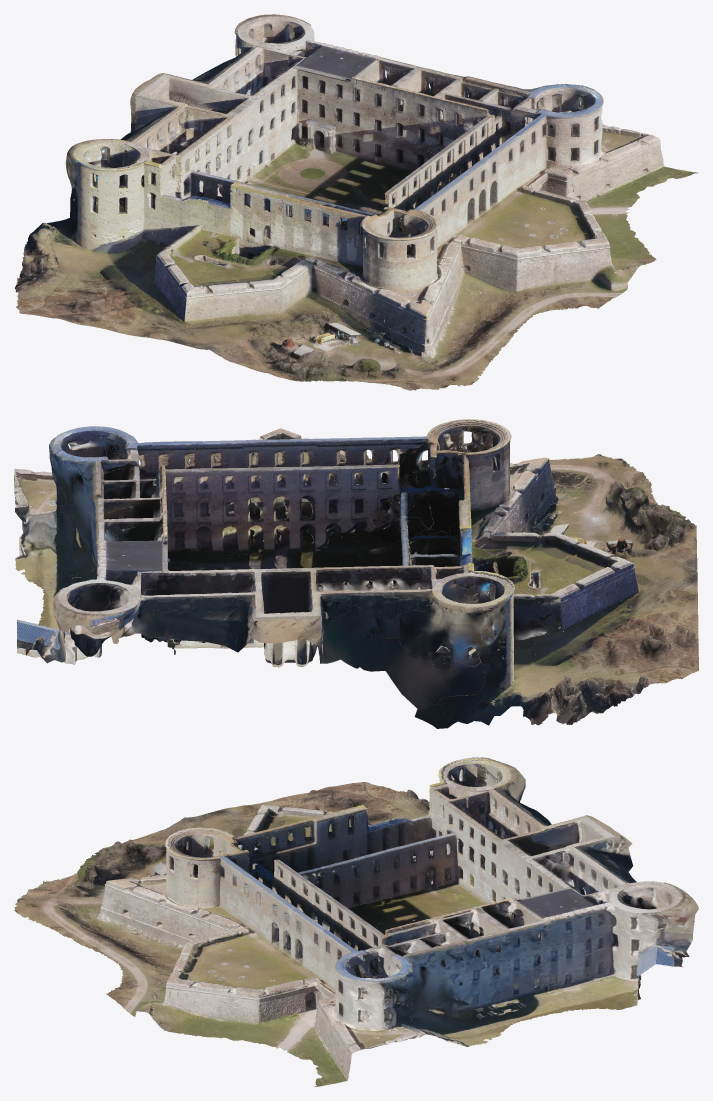
File: castle.glb
The picture shows the model from 3 angles, top to bottom: view 1: azimuth 30°, elevation 25°; view 2: azimuth 150°, elevation 25°; view 3: azimuth 270°, elevation 25°; orthographic projection. The views are drawn at different scales.
Parts seen in each view (by area): view 1: Model_material0_0, Model_material1_0, Model_material2_0; view 2: Model_material2_0, Model_material0_0, Model_material1_0; view 3: Model_material0_0, Model_material2_0, Model_material1_0.
Part boxes in pixels (x1,y1,x2,y2): Model_material0_0: [15, 18, 698, 382]; Model_material1_0: [22, 14, 639, 381]; Model_material2_0: [15, 14, 660, 390]; Model_material2_0: [14, 425, 686, 719]; Model_material0_0: [14, 419, 698, 724]; Model_material1_0: [14, 427, 698, 728]; Model_material0_0: [64, 757, 674, 1086]; Model_material2_0: [14, 757, 698, 1071]; Model_material1_0: [80, 757, 692, 1061].
Bounding box in the file's own units: 31.73 × 5.04 × 30.04.
3 materials, 3 textured.
